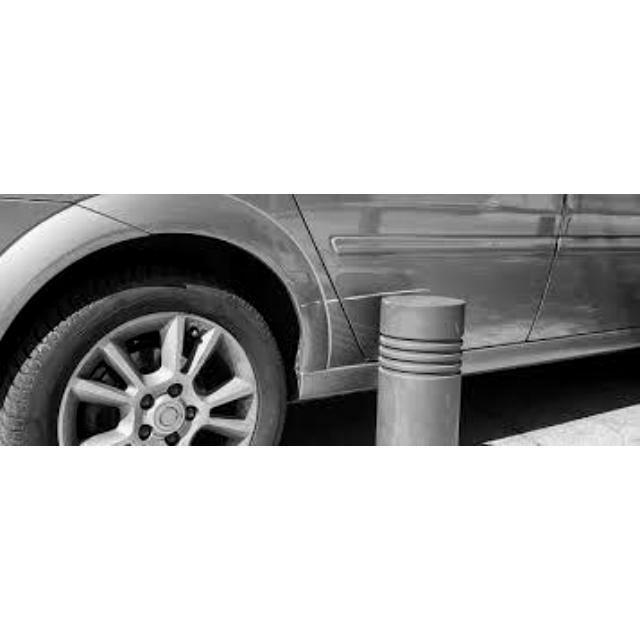doorouter-dent: (337, 243, 451, 327)
